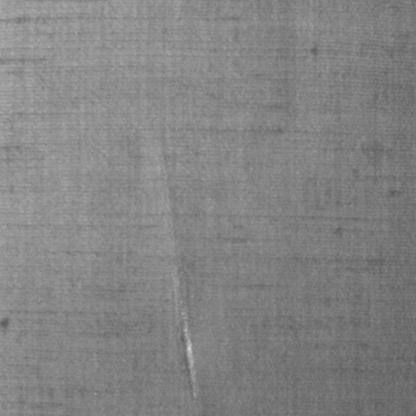thread error: (154, 146, 202, 404)
